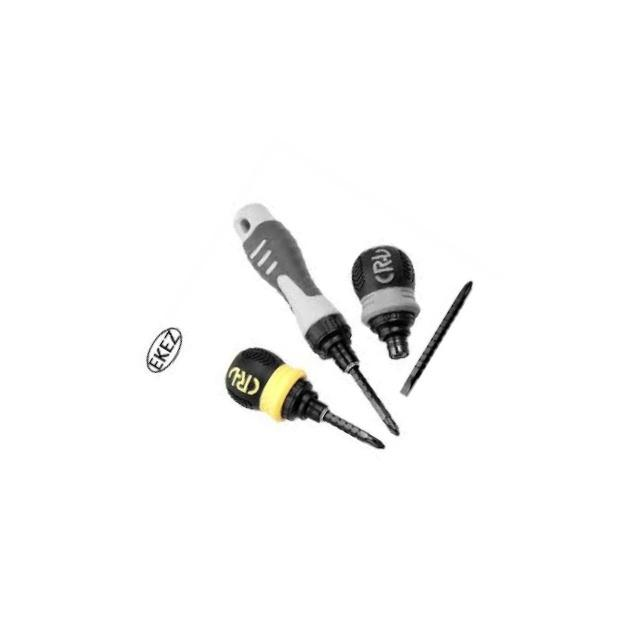screwdriver: (179, 192, 465, 436), (214, 334, 398, 482)
